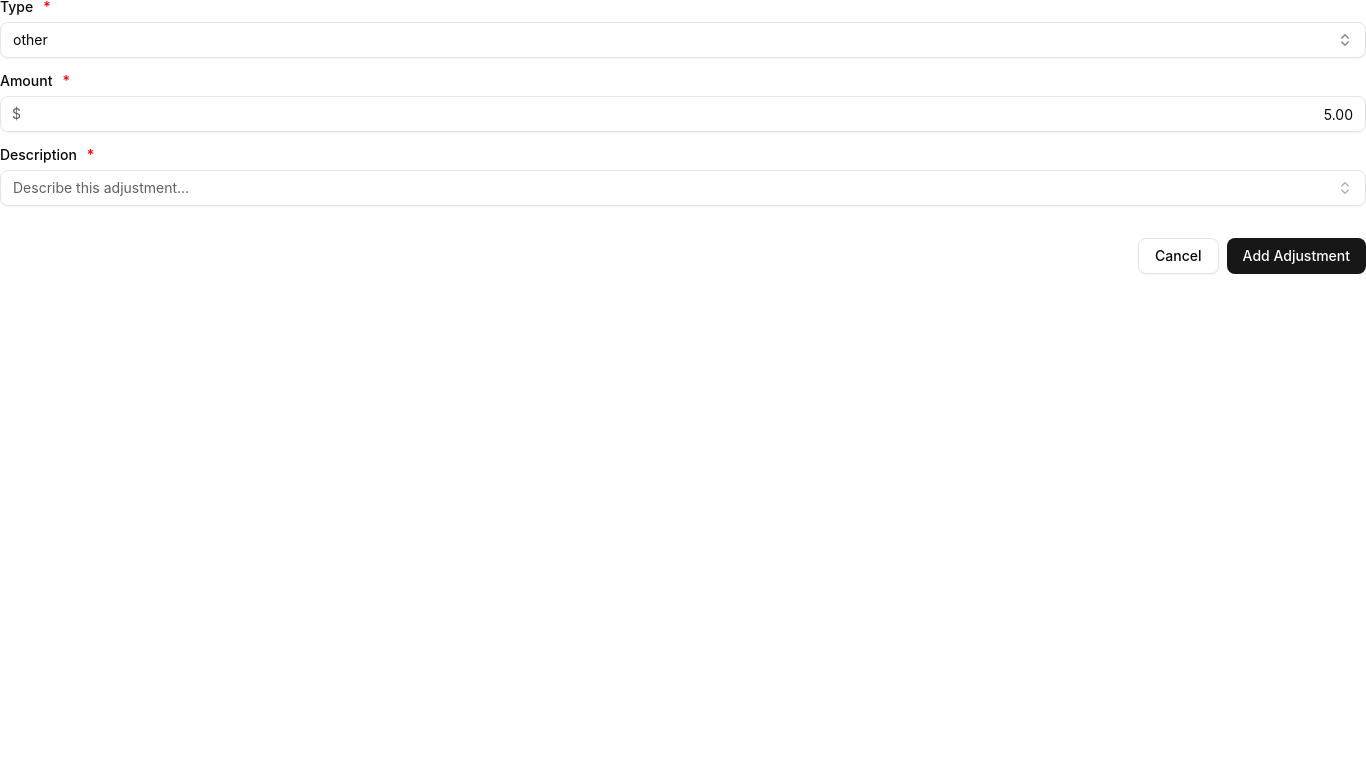
Test case: AdjustmentForm › selects a history description and populates the field
Step 1. Click the dropdown named "Description" → (101,188), box [0,170,1365,206]
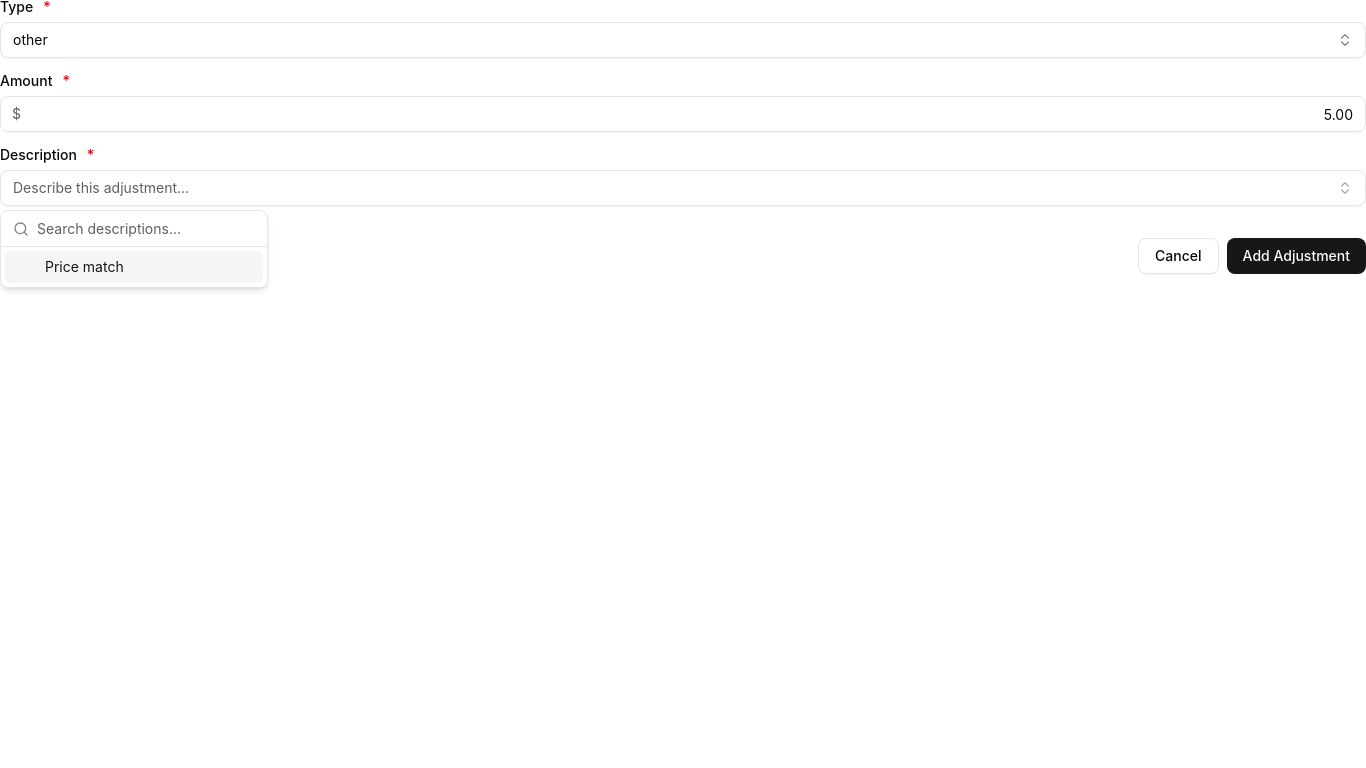
Expected: the text "Price match" is shown, [45,257,124,277]
Step 2. Click the option "Price match" → (134,267), box [5,251,263,283]
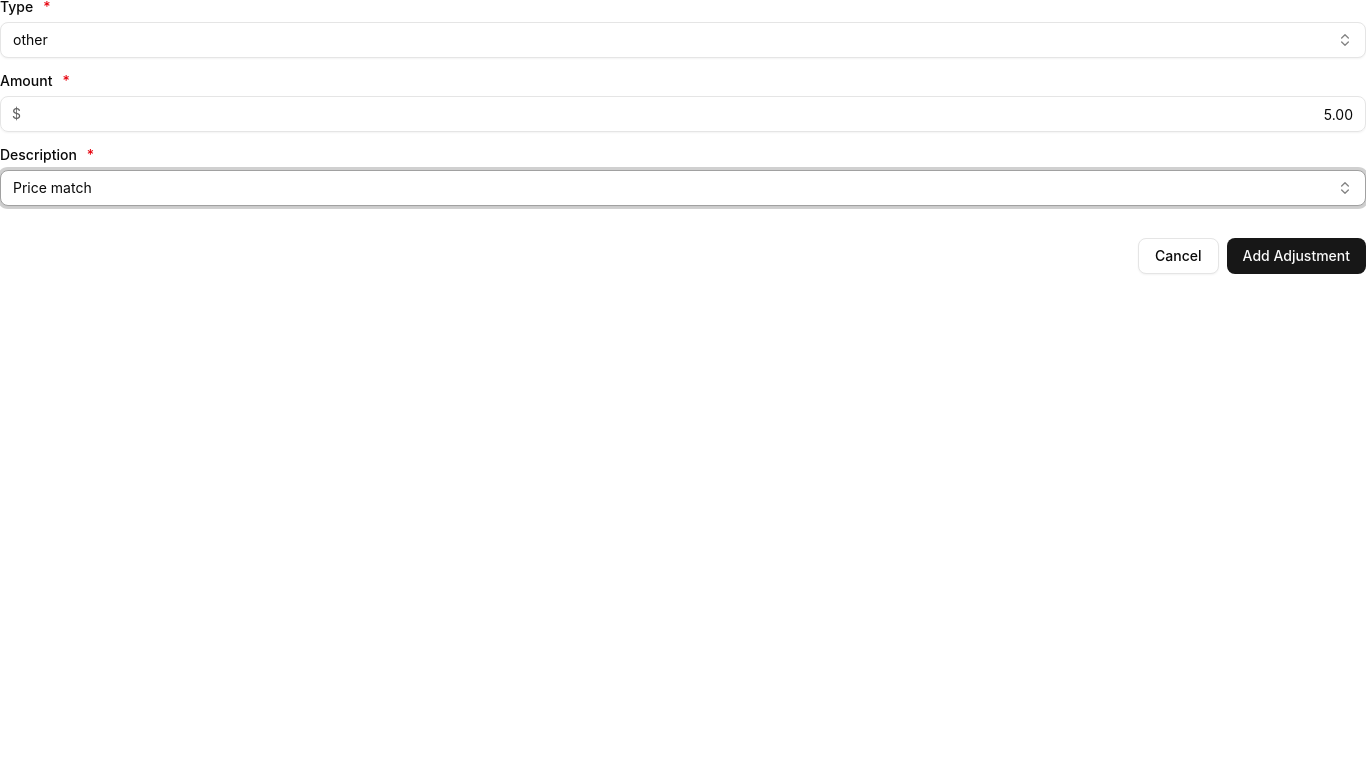
Expected: the dropdown named "Description" reads "Price match", [0,170,1365,206]
